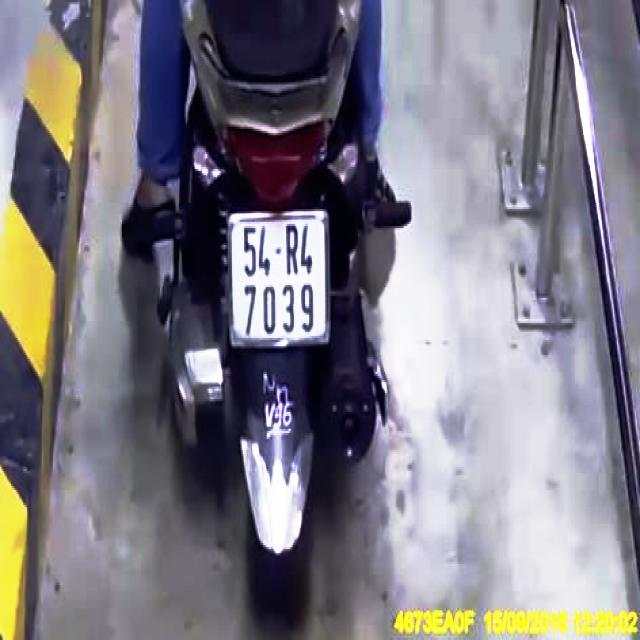license_plate: (232, 218, 331, 345)
